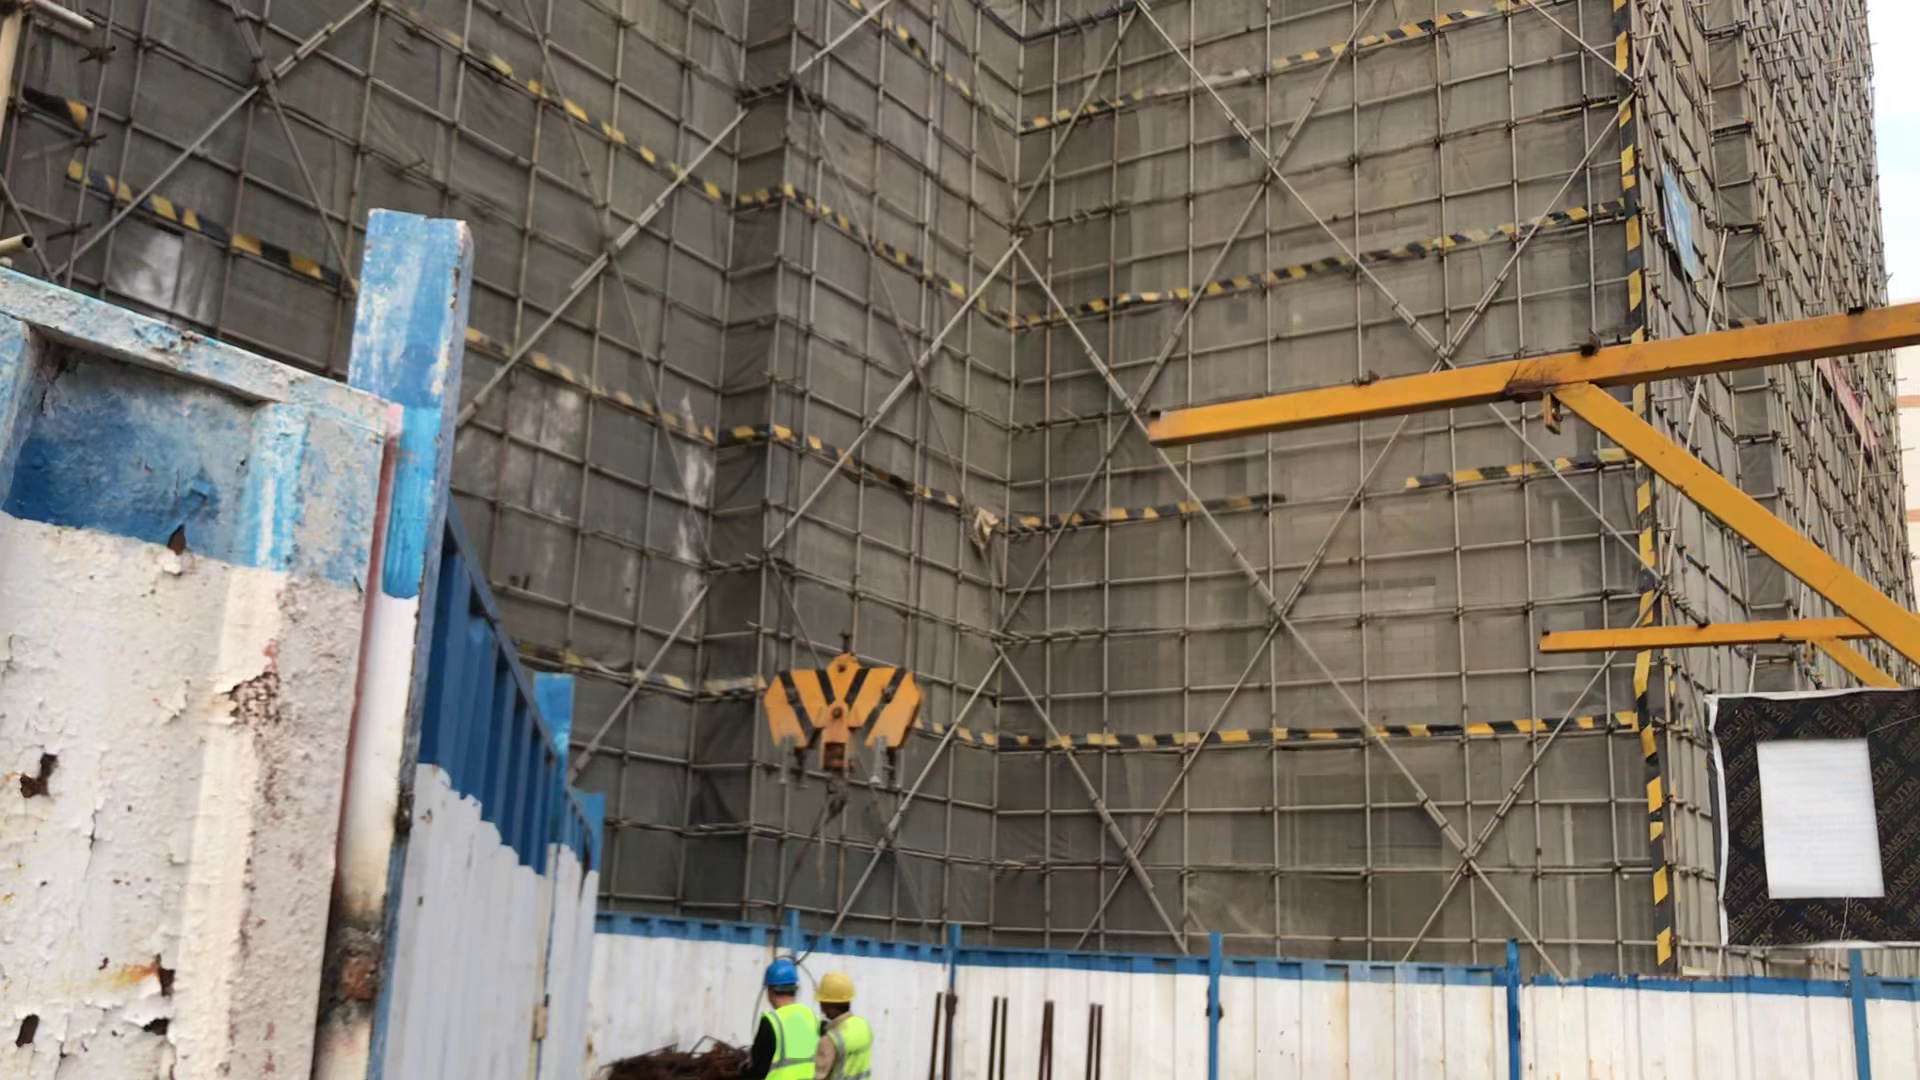helmet: (817, 975, 857, 1001), (765, 960, 798, 986)
person: (752, 960, 820, 1080), (818, 972, 871, 1080)
vest: (764, 1004, 816, 1080), (827, 1016, 871, 1080)
